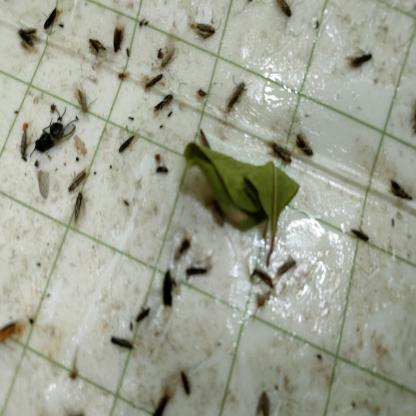prays_oleae: (385, 171, 416, 216), (268, 134, 297, 172), (293, 128, 316, 171), (191, 13, 217, 46), (346, 39, 371, 73), (110, 325, 134, 360), (149, 383, 175, 413), (226, 80, 248, 114), (17, 20, 40, 50), (276, 257, 298, 285), (252, 267, 273, 296), (18, 126, 33, 165), (41, 6, 62, 32), (350, 215, 367, 247), (172, 236, 192, 262), (76, 88, 92, 118), (279, 2, 299, 26), (72, 193, 90, 219), (114, 135, 138, 154), (87, 37, 106, 61), (178, 367, 191, 401), (184, 261, 208, 279), (113, 19, 125, 55), (254, 389, 272, 413), (159, 42, 175, 65), (140, 70, 166, 84), (65, 172, 92, 184), (150, 96, 174, 108), (117, 67, 128, 90)
